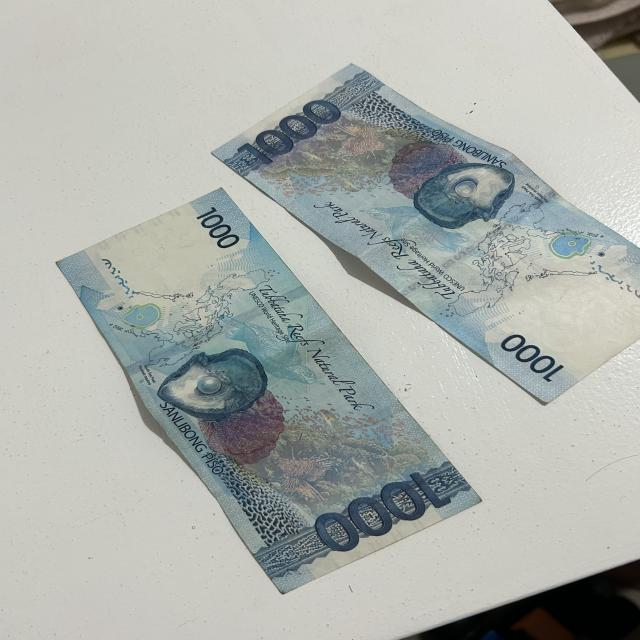1000_pearl: (412, 161, 511, 227), (156, 355, 268, 413)
1000_pearl_watermark: (123, 303, 165, 332), (547, 234, 591, 260)
